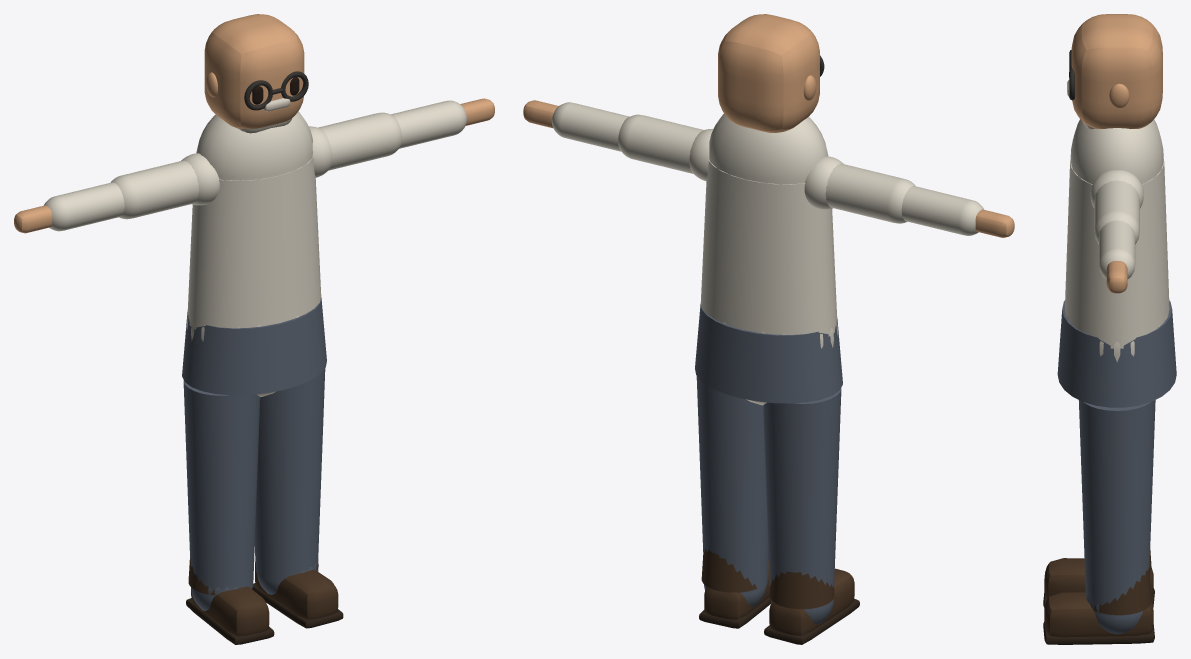
Rendered from alvaro.glb.
3 renders of one model, left to right at view 1: azimuth 30°, elevation 25°; view 2: azimuth 150°, elevation 25°; view 3: azimuth 270°, elevation 25°, orthographic. The views are drawn at different scales.
Parts seen in each view (by area): view 1: alvaro_shirt_body, alvaro_pant_leg_l, alvaro_pant_leg_r, alvaro_bottom_waist, alvaro_head, alvaro_top_shoulders, alvaro_upperarm_l, alvaro_upperarm_r, alvaro_forearm_l, alvaro_boot_r, alvaro_boot_l, alvaro_forearm_r (+5 smaller); view 2: alvaro_shirt_body, alvaro_pant_leg_l, alvaro_pant_leg_r, alvaro_head, alvaro_bottom_waist, alvaro_top_shoulders, alvaro_upperarm_l, alvaro_upperarm_r, alvaro_forearm_l, alvaro_forearm_r, alvaro_boot_l, alvaro_boot_shaft_l (+7 smaller); view 3: alvaro_pant_leg_r, alvaro_shirt_body, alvaro_head, alvaro_bottom_waist, alvaro_top_shoulders, alvaro_boot_r, alvaro_upperarm_r, alvaro_forearm_r, alvaro_boot_l, alvaro_boot_shaft_r, alvaro_boot_sole_r, alvaro_pant_cuff_r (+4 smaller).
Part boxes in pixels (x1,y1,x2,y2): alvaro_shirt_body: (187,156,321,329); alvaro_pant_leg_l: (183,380,260,590); alvaro_pant_leg_r: (254,368,325,582); alvaro_bottom_waist: (182,297,326,395); alvaro_head: (204,14,304,128); alvaro_top_shoulders: (196,111,312,180); alvaro_upperarm_l: (111,160,198,219); alvaro_upperarm_r: (318,112,402,170); alvaro_forearm_l: (44,182,124,231); alvaro_boot_r: (255,567,338,619); alvaro_boot_l: (191,586,269,635); alvaro_forearm_r: (390,100,466,148); alvaro_shirt_body: (700,159,837,336); alvaro_pant_leg_l: (763,388,841,601); alvaro_pant_leg_r: (696,376,768,594); alvaro_head: (718,14,819,132); alvaro_bottom_waist: (695,303,842,403); alvaro_top_shoulders: (709,113,828,184); alvaro_upperarm_l: (825,163,915,223); alvaro_upperarm_r: (618,114,703,173); alvaro_forearm_l: (901,186,983,235); alvaro_forearm_r: (551,102,629,151); alvaro_boot_l: (769,568,854,635); alvaro_boot_shaft_l: (769,571,834,609); alvaro_pant_leg_r: (1078,400,1155,606); alvaro_shirt_body: (1065,159,1169,348); alvaro_head: (1071,14,1162,128); alvaro_bottom_waist: (1057,300,1176,407); alvaro_top_shoulders: (1070,119,1163,184); alvaro_boot_r: (1044,592,1153,637); alvaro_upperarm_r: (1094,180,1139,244); alvaro_forearm_r: (1099,220,1135,279); alvaro_boot_l: (1044,558,1153,598); alvaro_boot_shaft_r: (1094,567,1151,615); alvaro_boot_sole_r: (1043,621,1154,644); alvaro_pant_cuff_r: (1085,595,1142,634).
Bounding box in the file's own units: 1.44 × 1.69 × 0.3427.
